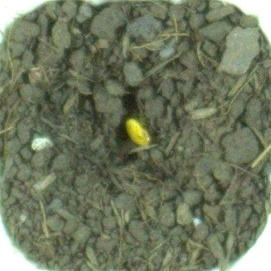pepper seed: (48, 43, 201, 190)
